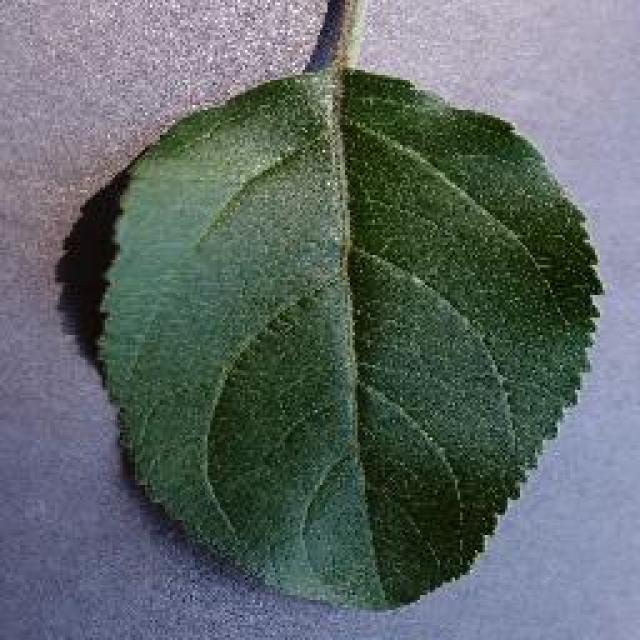apple healthy: (80, 0, 605, 612)
